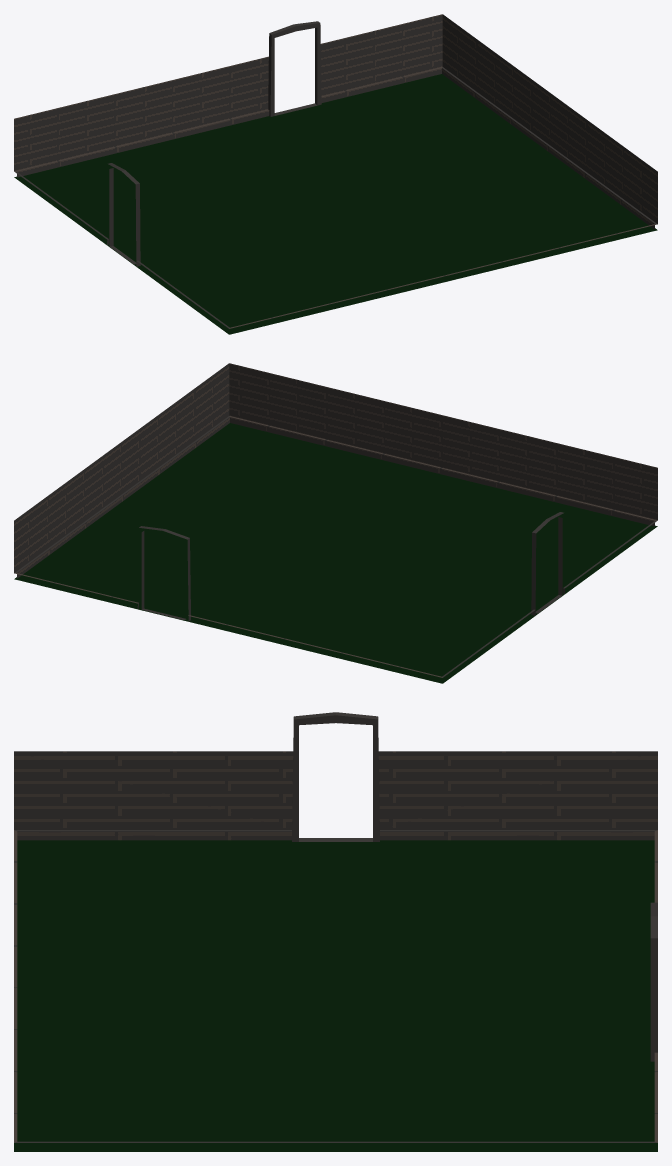
File: Library.obj
3 renders of one model, top to bottom at view 1: azimuth 30°, elevation 25°; view 2: azimuth 150°, elevation 25°; view 3: azimuth 270°, elevation 25°, orthographic. The views are drawn at different scales.
Parts seen in each view (by area): view 1: Library_Plane.011; view 2: Library_Plane.011; view 3: Library_Plane.011.
Boxes of the visible parts, x1,y1,x2,y2 form: Library_Plane.011: [14, 14, 657, 334]; Library_Plane.011: [14, 363, 657, 683]; Library_Plane.011: [14, 712, 657, 1151].
Size of the model in its own units: 11.5 by 2.17 by 10.
